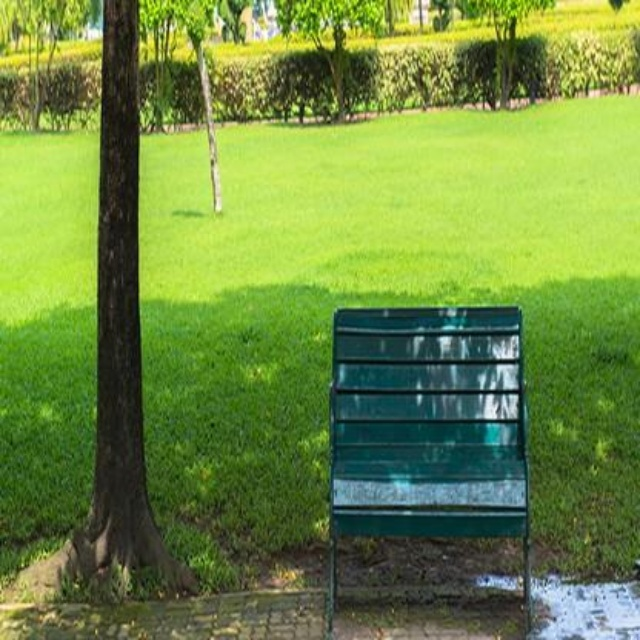obstacle: (303, 286, 535, 623)
